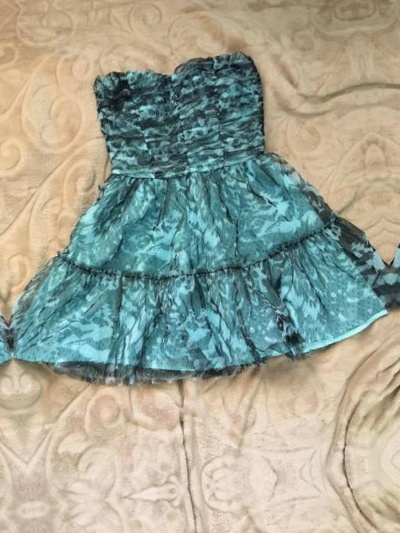Dress: (0, 28, 397, 401), (362, 0, 400, 350), (0, 79, 17, 452)
